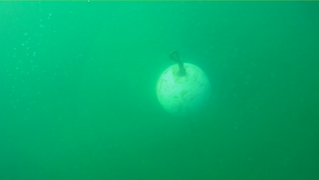buoy: (155, 62, 212, 117)
